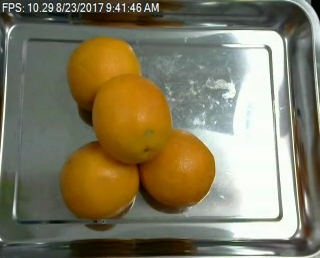Orange: (92, 74, 172, 165), (59, 140, 138, 218), (140, 130, 216, 207), (68, 37, 142, 115)
